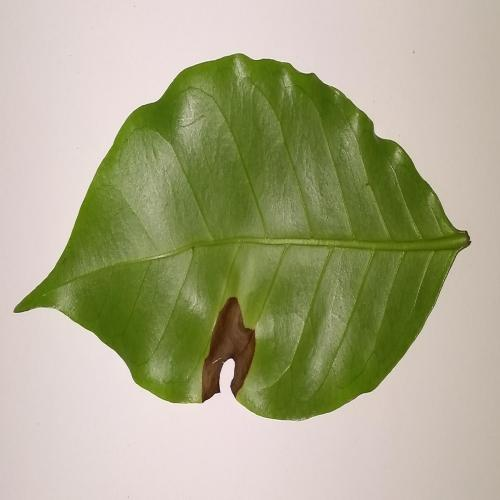miner: (202, 297, 255, 402)
